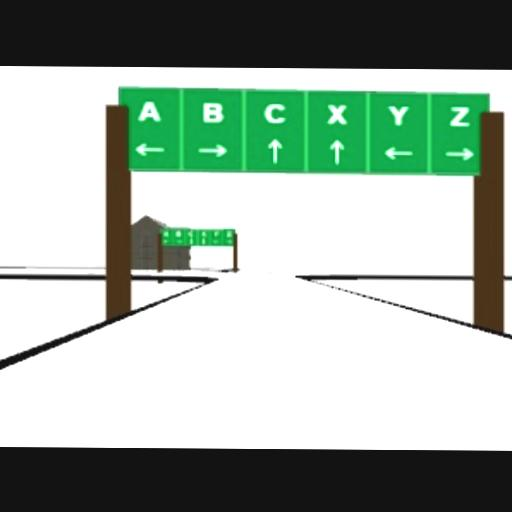A: (136, 98, 162, 123)
B: (201, 99, 223, 122)
C: (263, 100, 285, 122)
Left: (134, 141, 164, 155), (384, 145, 414, 159)
Right: (198, 141, 228, 156), (444, 145, 474, 160)
Straight: (266, 137, 284, 161), (328, 136, 344, 163)
X: (326, 102, 348, 123)
Y: (387, 103, 409, 125)
Z: (448, 104, 470, 125)
